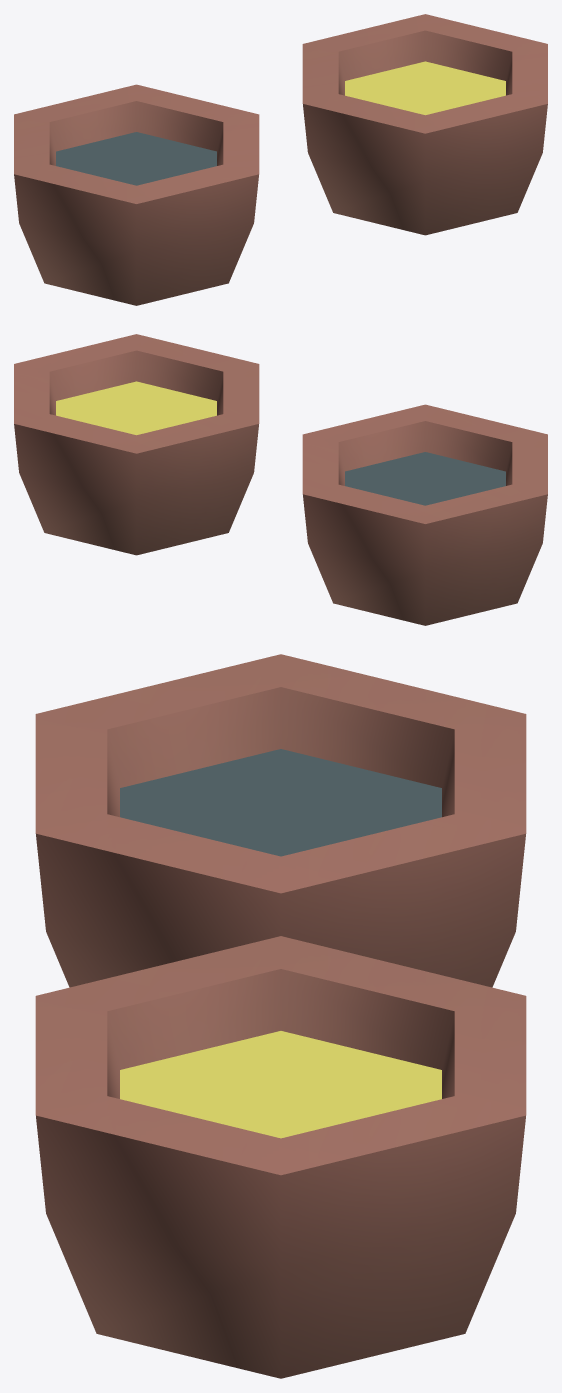
File: test_stupla.fbx
3 renders of one model, top to bottom at view 1: azimuth 30°, elevation 25°; view 2: azimuth 150°, elevation 25°; view 3: azimuth 270°, elevation 25°, orthographic. The views are drawn at different scales.
Parts seen in each view (by area): view 1: Stypka2, Stypka1; view 2: Stypka2, Stypka1; view 3: Stypka2, Stypka1.
Boxes of the visible parts, x1=… form: Stypka2: x1=302, y1=14, x2=547, y2=235; Stypka1: x1=14, y1=84, x2=259, y2=305; Stypka2: x1=14, y1=334, x2=259, y2=555; Stypka1: x1=302, y1=404, x2=547, y2=625; Stypka2: x1=35, y1=936, x2=526, y2=1378; Stypka1: x1=35, y1=654, x2=526, y2=987.
Size of the model in its own units: 0.5349 by 0.1126 by 0.2127.
1 material, 1 textured.
